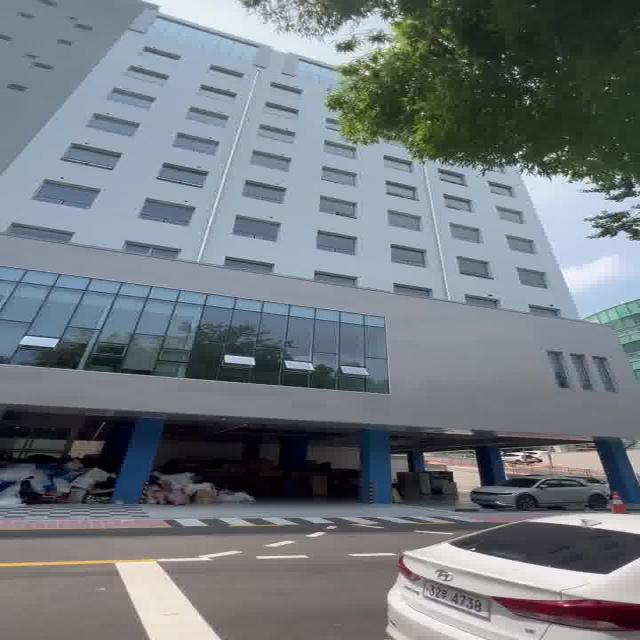building: (11, 181, 553, 429)
